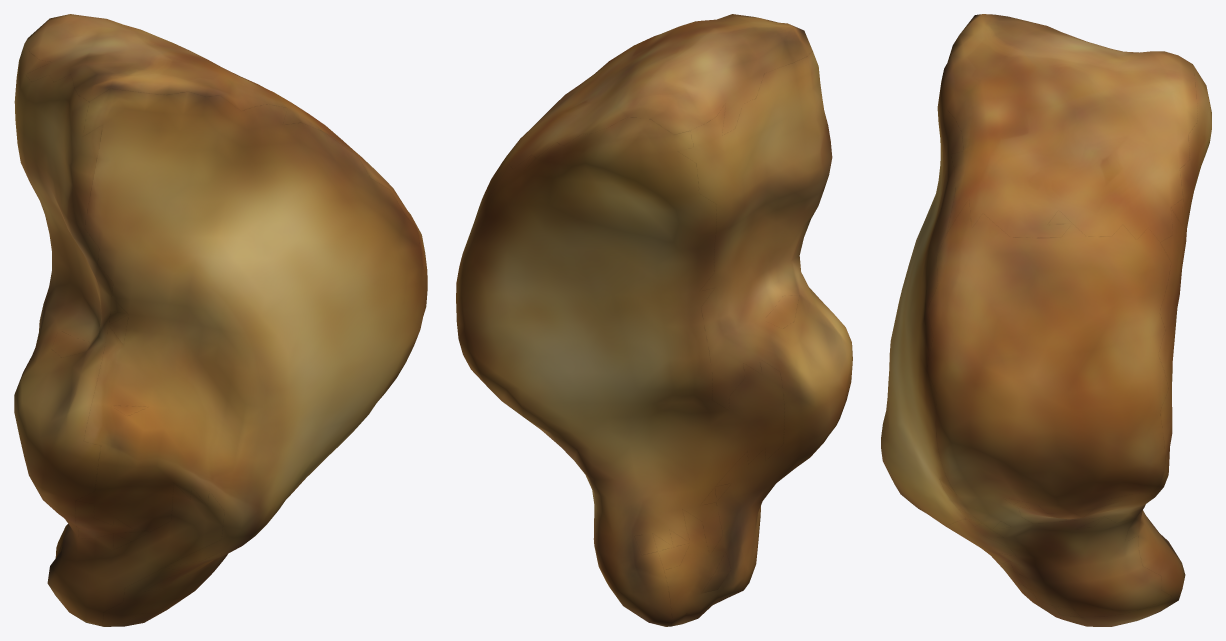
Rendered from Alpaca 4th Carpal L.glb.
3 renders of one model, left to right at view 1: azimuth 30°, elevation 25°; view 2: azimuth 150°, elevation 25°; view 3: azimuth 270°, elevation 25°, orthographic. The views are drawn at different scales.
Visible parts, largest first — view 1: Alpaca 4th Carpal L. (C4); view 2: Alpaca 4th Carpal L. (C4); view 3: Alpaca 4th Carpal L. (C4).
Part boxes in pixels (bbox=[...]): Alpaca 4th Carpal L. (C4): bbox=[14, 14, 427, 626]; Alpaca 4th Carpal L. (C4): bbox=[456, 14, 852, 626]; Alpaca 4th Carpal L. (C4): bbox=[881, 14, 1211, 626].
Size of the model in its own units: 0.0159 by 0.0248 by 0.0129.
1 material, 1 textured.
